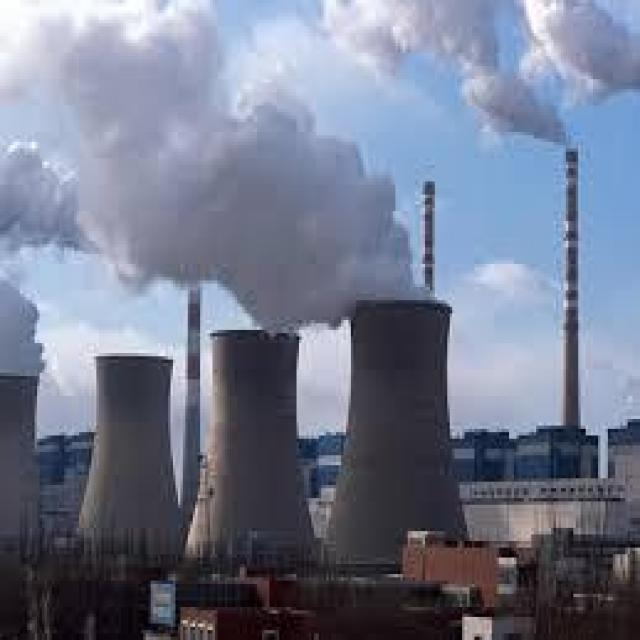Smoke: (6, 6, 420, 307), (315, 3, 565, 148), (524, 3, 640, 106), (3, 142, 95, 260), (0, 284, 50, 384)
